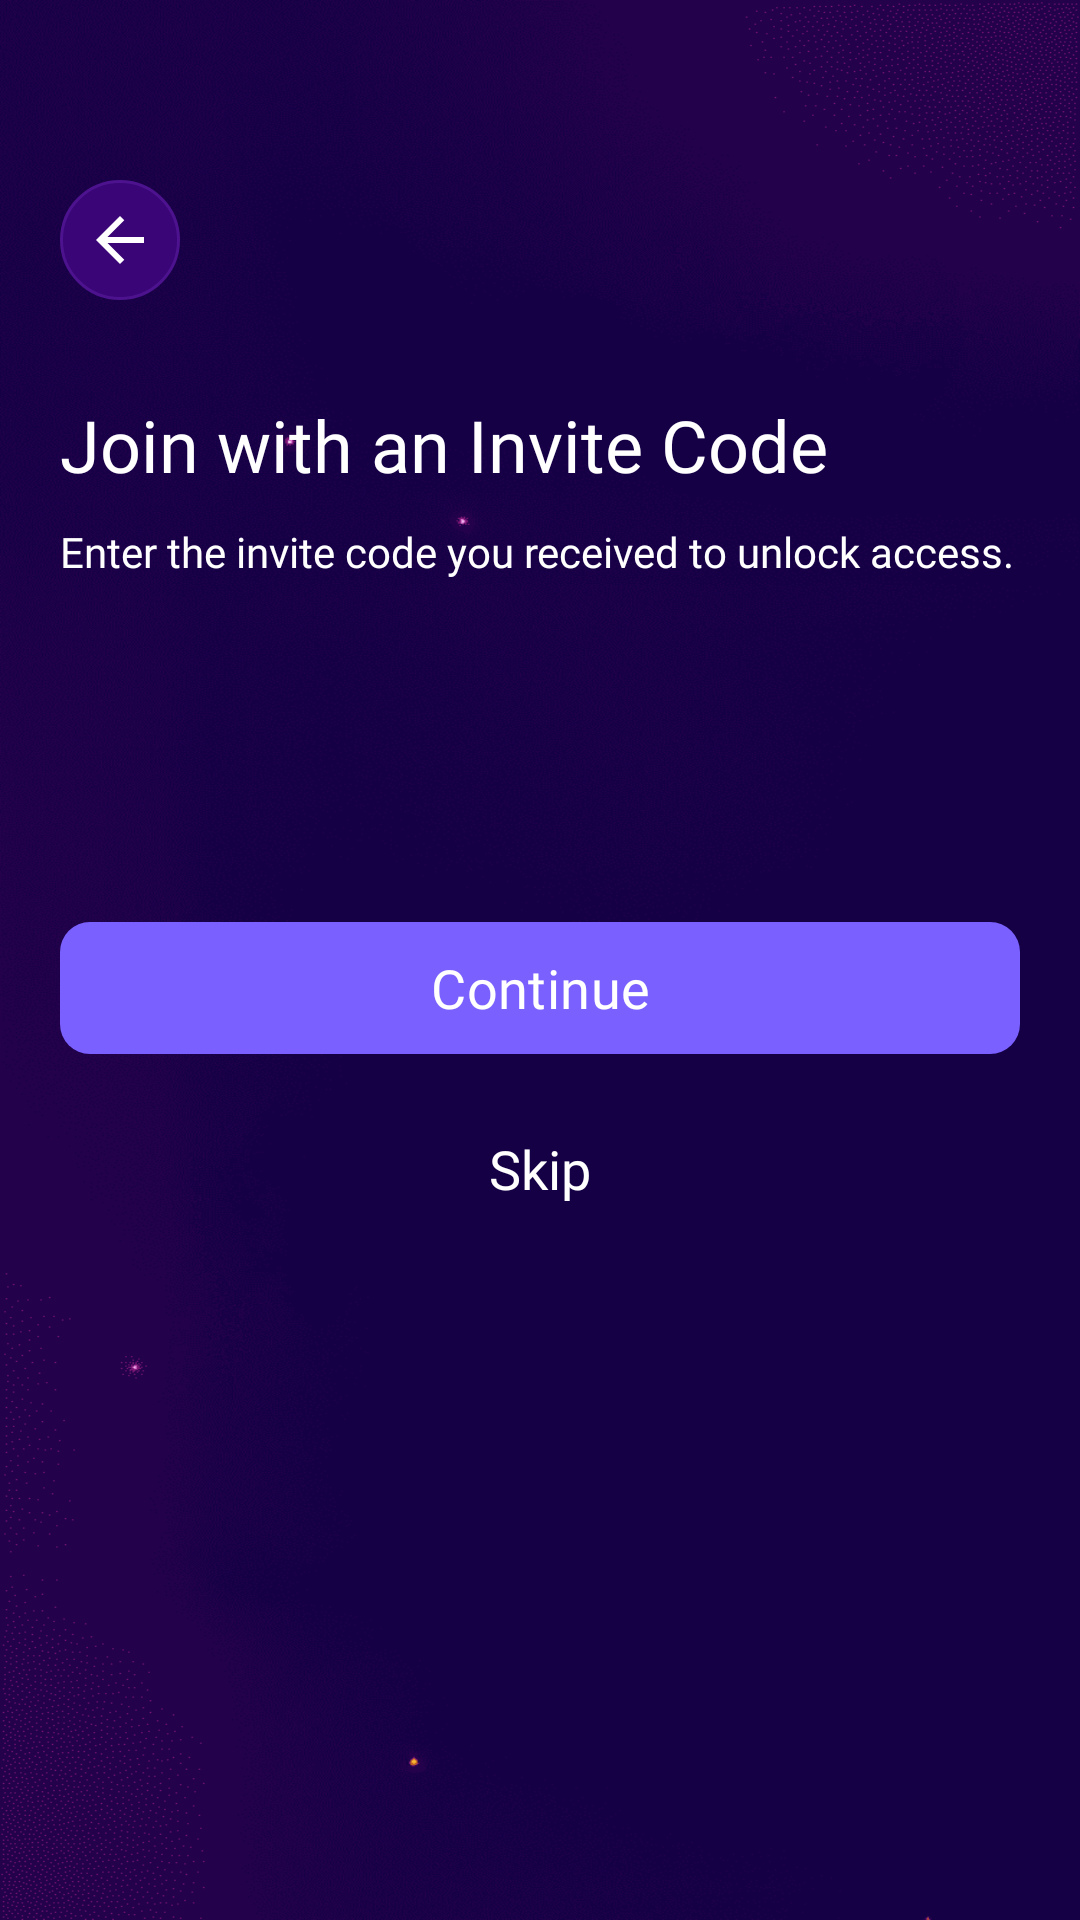

Icon bounding boxes for this 1080 × 1920 phone screenshot, format region(x1, y1, x2, y2):
back: region(60, 180, 180, 300)
